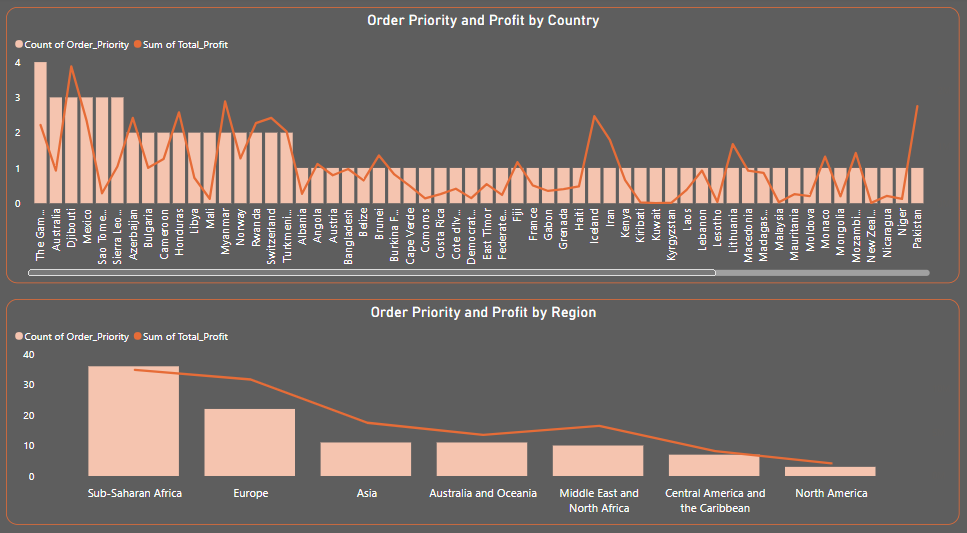

The page's visual inventory and layout, read from the dashboard file:
{"tool":"powerbi","page":{"name":"Page 4","canvas":[1280,720],"ordinal":3},"visuals":[{"type":"lineStackedColumnComboChart","title":"Order Priority and Profit by Country","fields":{"Category":["amazon_sales.Country"],"Y":["CountNonNull(amazon_sales.Order_Priority)"],"Y2":["Sum(amazon_sales.Total_Profit)"]},"box":[15.8,12.9,1246,360.7],"z":0},{"type":"lineStackedColumnComboChart","title":"Order Priority and Profit by Region","fields":{"Category":["amazon_sales.Region"],"Y":["CountNonNull(amazon_sales.Order_Priority)"],"Y2":["Sum(amazon_sales.Total_Profit)"]},"box":[15.8,395.2,1246,294.6],"z":1000}]}

Visuals, with their boxes in screenshot pixels (x1, y1, x2, y2), scaled from the page's 1280x720 canvas onto the 967x533 screenshot:
"Order Priority and Profit by Country" lineStackedColumnComboChart: left=12, top=10, right=953, bottom=277
"Order Priority and Profit by Region" lineStackedColumnComboChart: left=12, top=293, right=953, bottom=511
